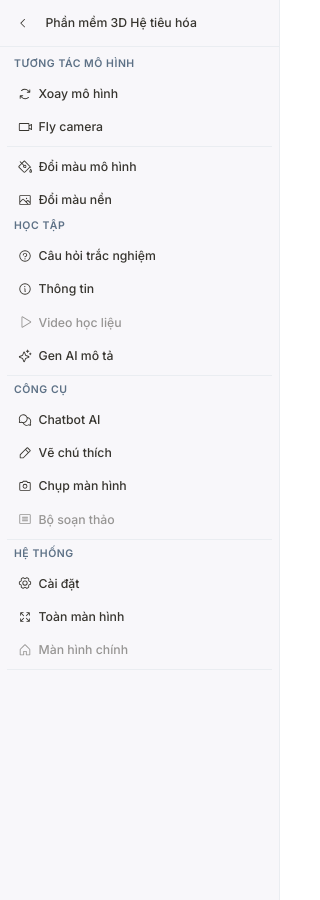
Test: ViewerMenu › toggles menu open and closed while visually hiding group titles
Click the button named "Thu gọn" at (23, 23), box top-left (7, 7), bottom-right (38, 38)
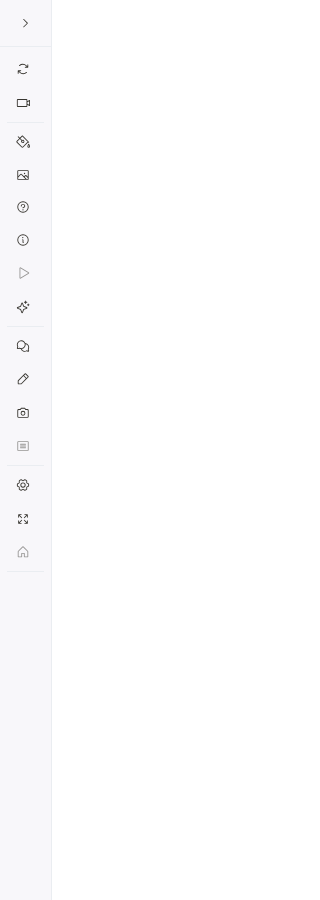
Now the button named "Mở rộng" is shown, box top-left (10, 7), bottom-right (41, 38)
